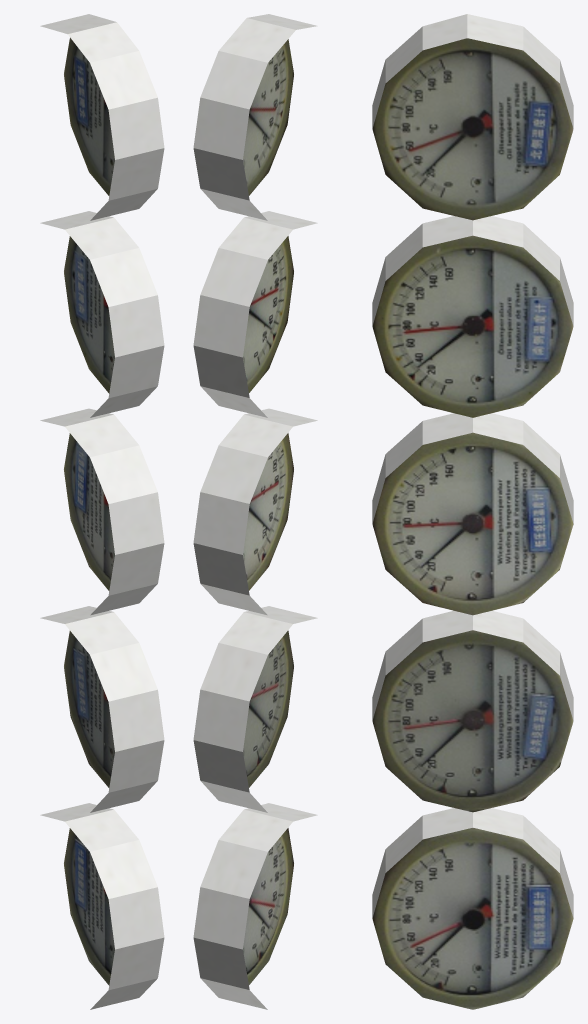
File: wdj005-geode.glb
The picture shows the model from 3 angles, left to right: view 1: azimuth 30°, elevation 25°; view 2: azimuth 150°, elevation 25°; view 3: azimuth 270°, elevation 25°; orthographic projection.
Parts seen in each view (by area): view 1: Node; view 2: Node; view 3: Node.
Boxes of the visible parts, x1,y1,x2,y2 form: Node: (40, 14, 164, 1009); Node: (193, 14, 317, 1009); Node: (372, 14, 573, 1009).
Bounding box in the file's own units: 0.041 × 0.7692 × 0.1443.
2 materials, 2 textured.
